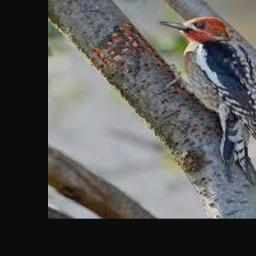Woodpecker: (158, 16, 256, 184)
